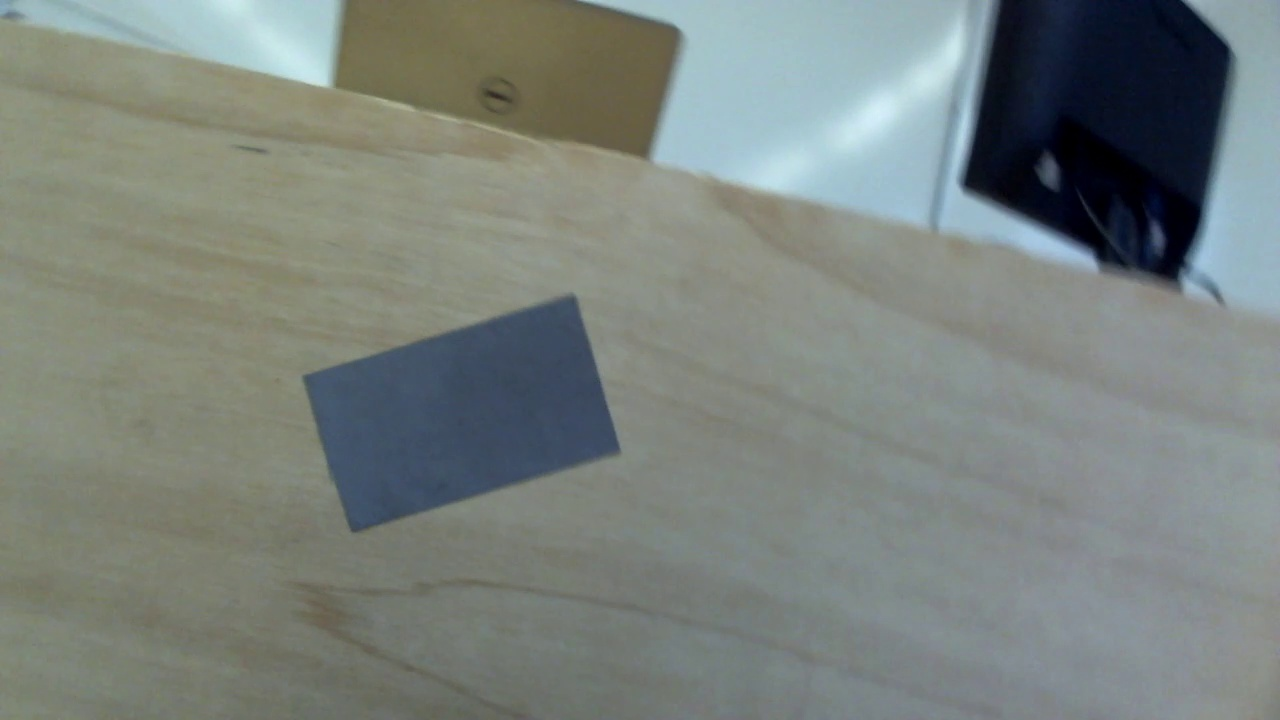Tape: (304, 299, 621, 535)
